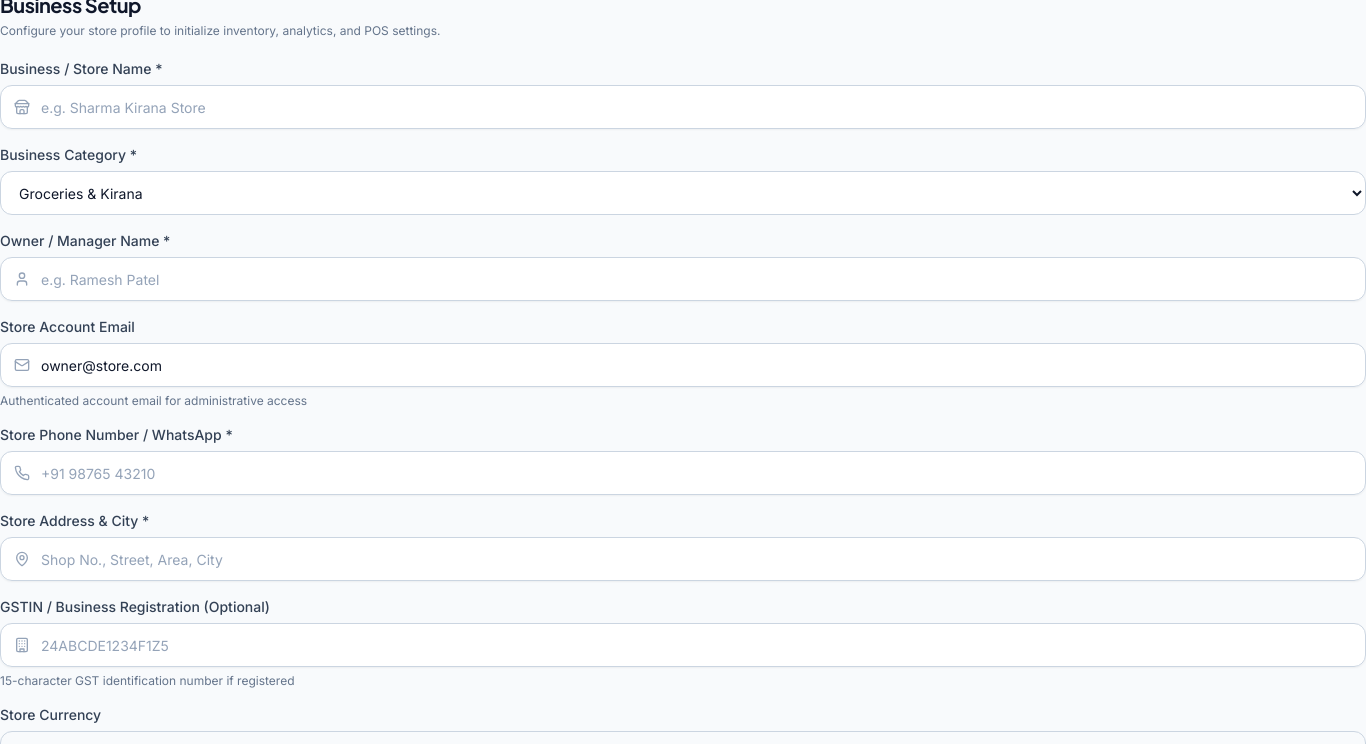
Test: Nirmaan Web — Phase 3: Business Setup Suite › 3. required fields validate correctly and show inline validation messages
The image size is (1366, 744).
Expected: the field with test id "input-business-name" is shown, top-left (0, 85), bottom-right (1365, 129)
Clear the field with test id "input-store-address" at (683, 559), box top-left (0, 537), bottom-right (1365, 581)
(page scrolled)
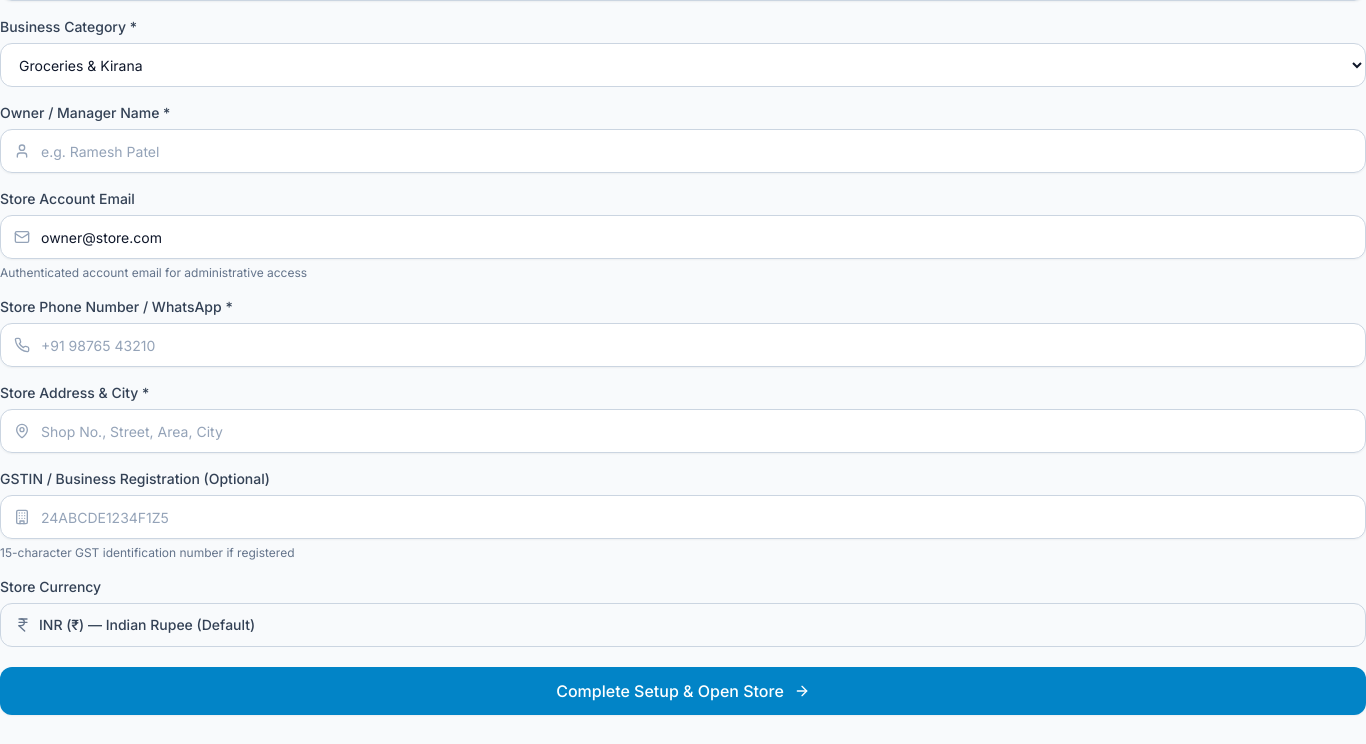
// Click submit
Click the button with test id "btn-complete-setup" at (683, 691), box top-left (0, 667), bottom-right (1365, 715)
(page scrolled)
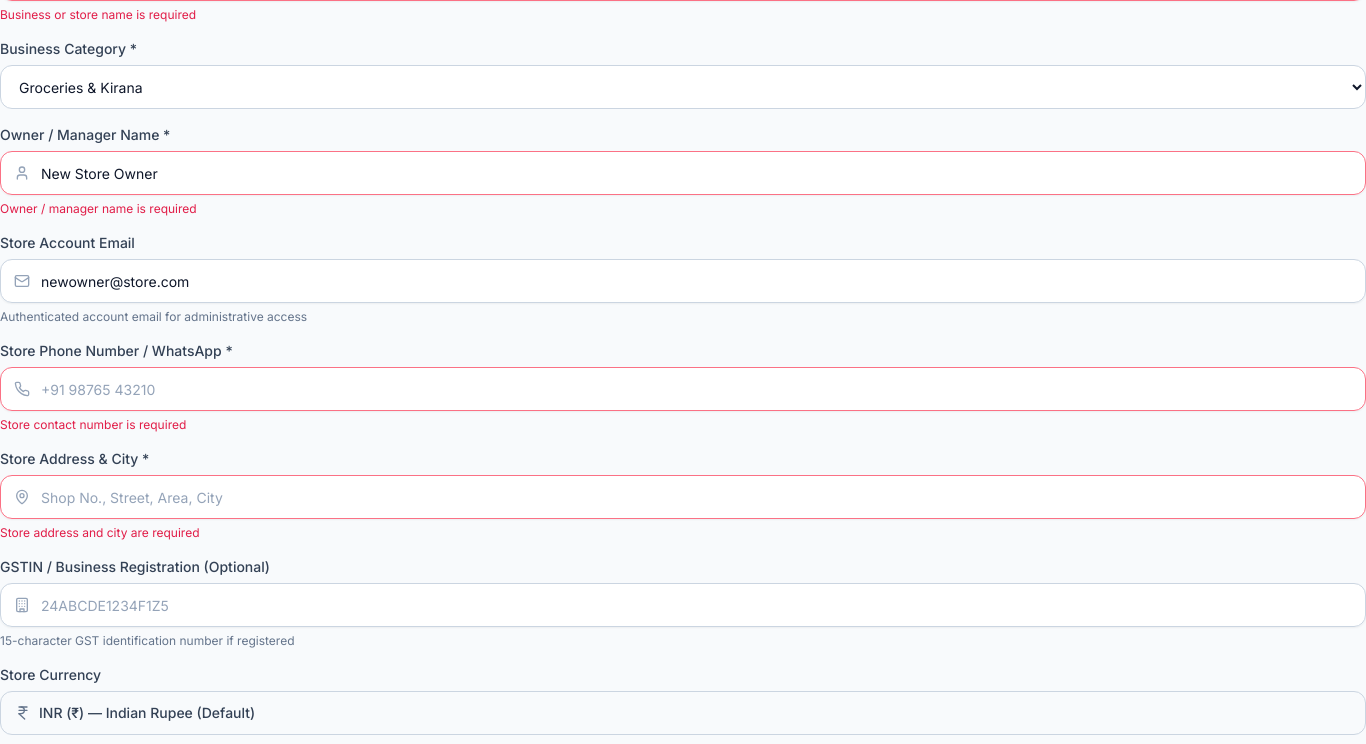
Now the text "Business or store name is required" is shown, box top-left (0, 7), bottom-right (196, 22)
Now the text "Owner / manager name is required" is shown, box top-left (0, 201), bottom-right (197, 216)
Now the text "Store contact number is required" is shown, box top-left (0, 417), bottom-right (186, 432)
